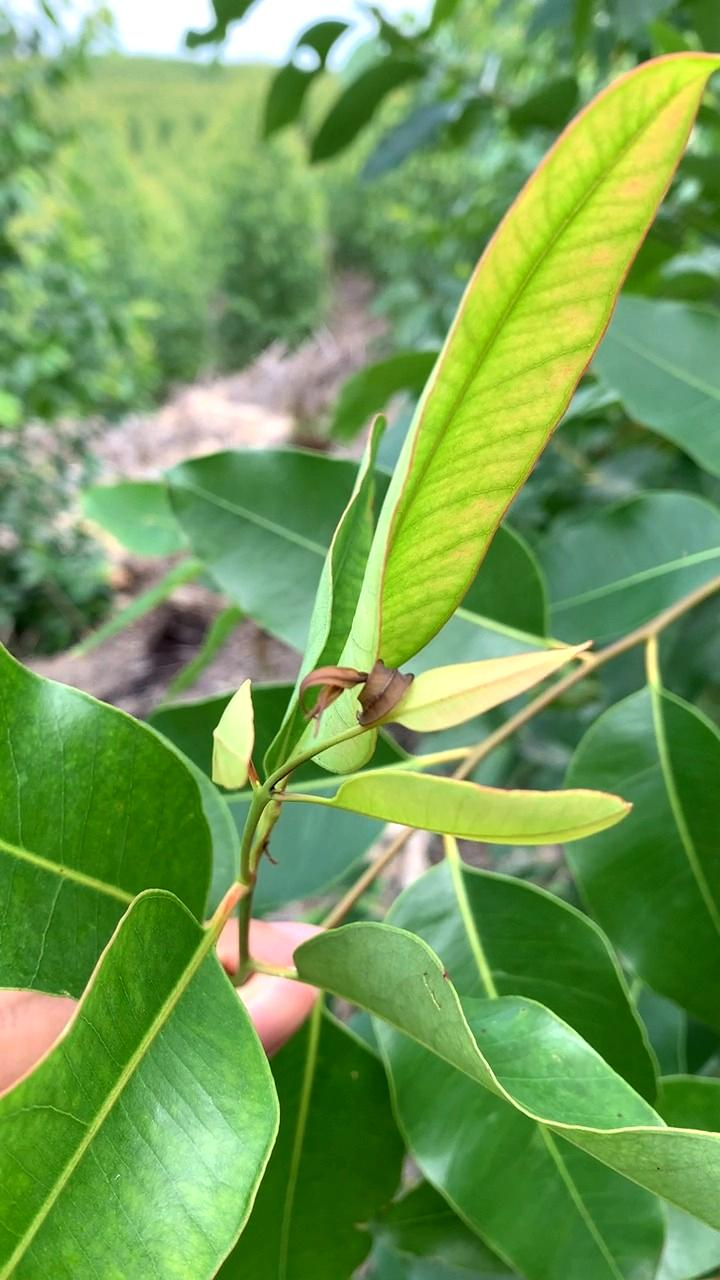Helopeltis-Withered Sprout: (296, 650, 431, 741)
